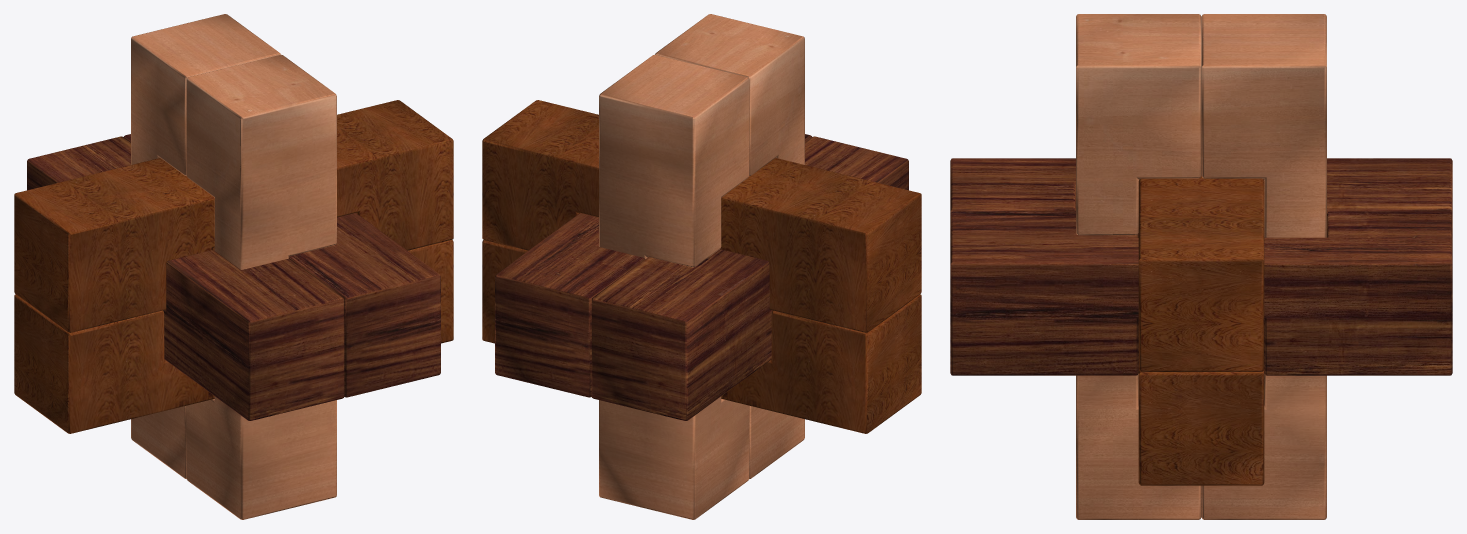
Rendered from burr.glb.
3 views of the same model, side by side, from view 1: azimuth 30°, elevation 25°; view 2: azimuth 150°, elevation 25°; view 3: azimuth 270°, elevation 25° (orthographic). The views are drawn at different scales.
Parts seen in each view (by area): view 1: stick2, stick0, stick5, stick1, stick4, stick3; view 2: stick3, stick0, stick5, stick1, stick4, stick2; view 3: stick4, stick3, stick2, stick0, stick1, stick5.
Boxes of the visible parts, bbox=[...] form: stick2: bbox=[186, 54, 336, 519]; stick0: bbox=[14, 100, 453, 332]; stick5: bbox=[27, 136, 344, 420]; stick1: bbox=[14, 240, 453, 433]; stick4: bbox=[124, 134, 440, 397]; stick3: bbox=[131, 14, 280, 479]; stick3: bbox=[599, 54, 749, 519]; stick0: bbox=[482, 100, 921, 332]; stick5: bbox=[591, 136, 908, 420]; stick1: bbox=[482, 240, 921, 433]; stick4: bbox=[495, 134, 811, 397]; stick2: bbox=[655, 14, 804, 479]; stick4: bbox=[950, 211, 1452, 375]; stick3: bbox=[1201, 14, 1326, 519]; stick2: bbox=[1076, 14, 1201, 519]; stick0: bbox=[1138, 176, 1264, 371]; stick1: bbox=[1138, 369, 1264, 485]; stick5: bbox=[950, 158, 1452, 213].
Bounding box in the file's own units: 0.2 × 0.2 × 0.2.
3 materials, 3 textured.
